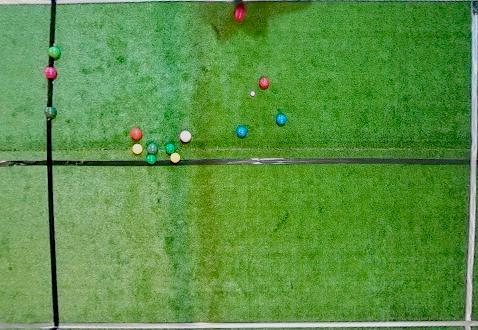blue: (275, 114, 286, 126), (236, 127, 247, 138)
green: (48, 46, 61, 59), (44, 107, 57, 119), (146, 143, 158, 154), (146, 154, 157, 165), (165, 143, 175, 154)
red: (43, 67, 57, 80), (234, 8, 246, 21), (179, 130, 191, 143), (130, 128, 142, 140), (259, 77, 269, 89)
vline: (1, 118, 60, 329), (462, 1, 477, 329), (1, 1, 57, 47), (1, 78, 53, 106)
white: (250, 91, 255, 96)
yellow: (170, 152, 181, 164), (132, 144, 143, 155)
